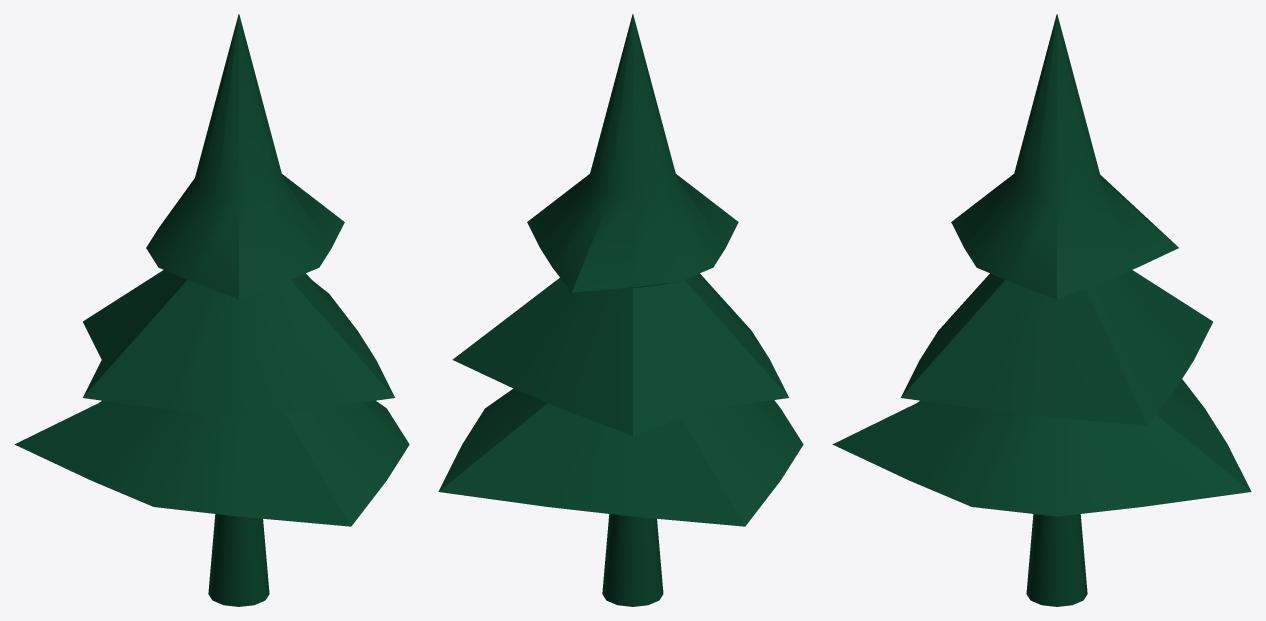
Rendered from pine1.glb.
3 views of the same model, side by side, from view 1: azimuth 30°, elevation 25°; view 2: azimuth 150°, elevation 25°; view 3: azimuth 270°, elevation 25° (orthographic).
Visible parts, largest first — view 1: pine1.002; view 2: pine1.002; view 3: pine1.002.
Boxes of the visible parts, x1,y1,x2,y2 form: pine1.002: (14,14,409,606); pine1.002: (438,14,803,606); pine1.002: (832,14,1251,606).
Size of the model in its own units: 1.19 by 2.08 by 1.36.
